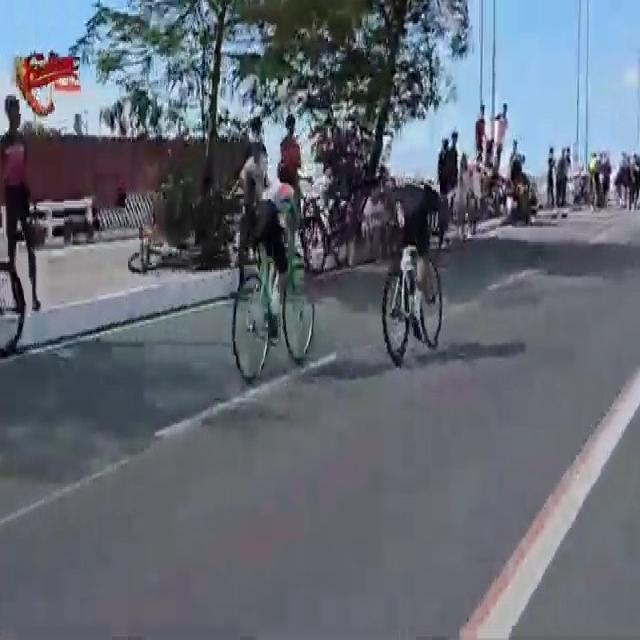bike: (227, 160, 316, 384), (381, 180, 444, 372), (264, 197, 328, 272), (0, 242, 27, 364)
